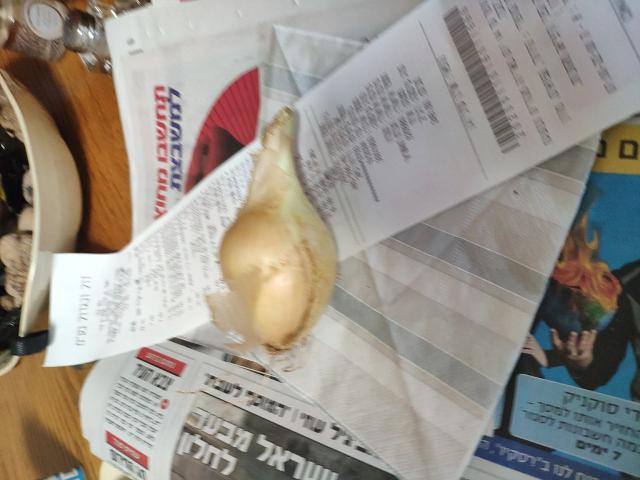onion: (219, 141, 331, 344)
